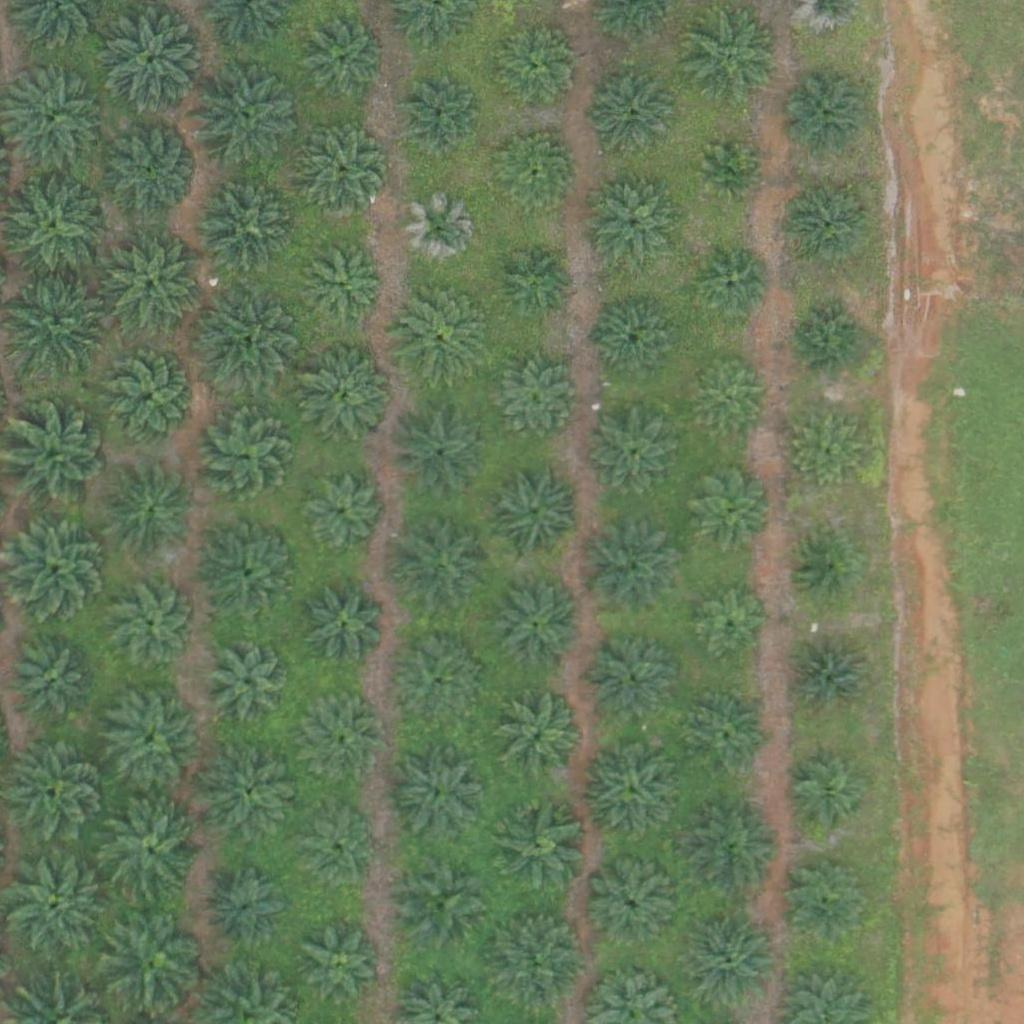Kelapa_Sawit: (4, 269, 117, 383), (191, 60, 304, 173), (191, 285, 303, 399), (98, 4, 210, 117), (197, 176, 297, 277), (395, 285, 495, 386), (578, 519, 678, 620), (483, 350, 583, 451), (483, 460, 583, 561), (389, 400, 489, 501), (202, 741, 302, 842), (100, 460, 200, 561), (101, 688, 201, 789), (101, 805, 201, 906), (5, 742, 105, 843), (392, 853, 492, 954), (487, 906, 587, 1007), (685, 911, 785, 1012), (101, 120, 201, 220), (103, 237, 203, 337), (684, 8, 784, 108), (681, 800, 781, 900), (581, 739, 681, 839), (487, 796, 587, 896), (392, 516, 492, 616), (387, 743, 487, 843), (297, 344, 397, 444), (196, 406, 296, 506), (200, 522, 300, 622), (100, 347, 200, 447), (102, 909, 202, 1009), (491, 130, 579, 219), (593, 297, 681, 386), (589, 862, 677, 951), (492, 237, 580, 325), (783, 755, 871, 843), (494, 28, 582, 116), (782, 72, 870, 160), (783, 183, 871, 271), (686, 692, 774, 780), (588, 411, 676, 499), (587, 636, 675, 724), (300, 473, 388, 561), (9, 637, 97, 725), (684, 464, 771, 552), (787, 636, 874, 724), (298, 20, 385, 108), (301, 130, 388, 218), (589, 73, 676, 161), (590, 183, 677, 271), (492, 584, 579, 672), (495, 695, 582, 783), (395, 644, 482, 732), (207, 636, 294, 724), (109, 580, 196, 668), (783, 856, 870, 944), (307, 247, 382, 323), (309, 590, 384, 666), (307, 701, 382, 777), (210, 871, 285, 947), (304, 924, 379, 1000), (697, 248, 772, 323), (695, 590, 770, 665), (787, 411, 862, 486), (794, 303, 869, 378), (401, 80, 476, 155), (403, 194, 478, 269), (689, 359, 764, 434), (299, 816, 374, 891), (792, 534, 855, 597), (699, 143, 762, 206)
